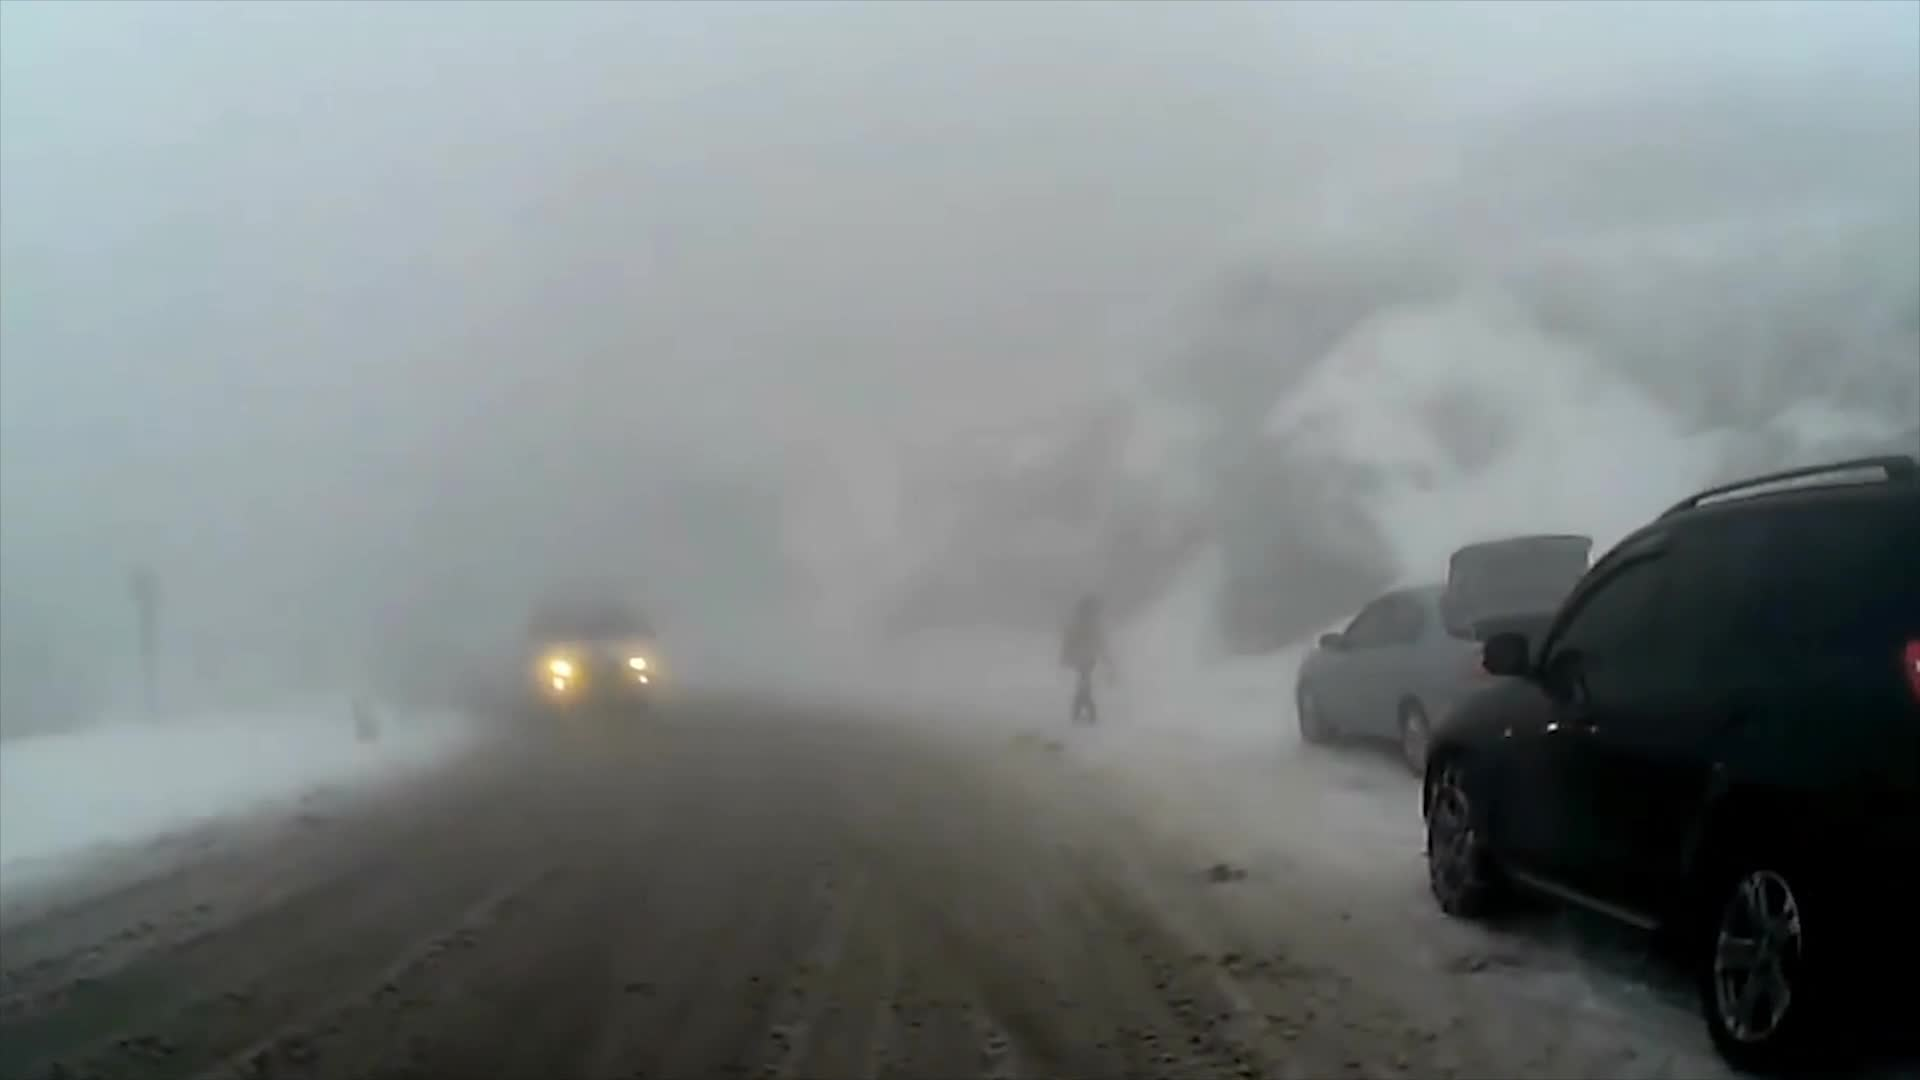pedestrian: (1064, 597, 1112, 724)
vehicle: (1418, 450, 1920, 1077), (1292, 533, 1644, 780), (522, 584, 661, 724)
